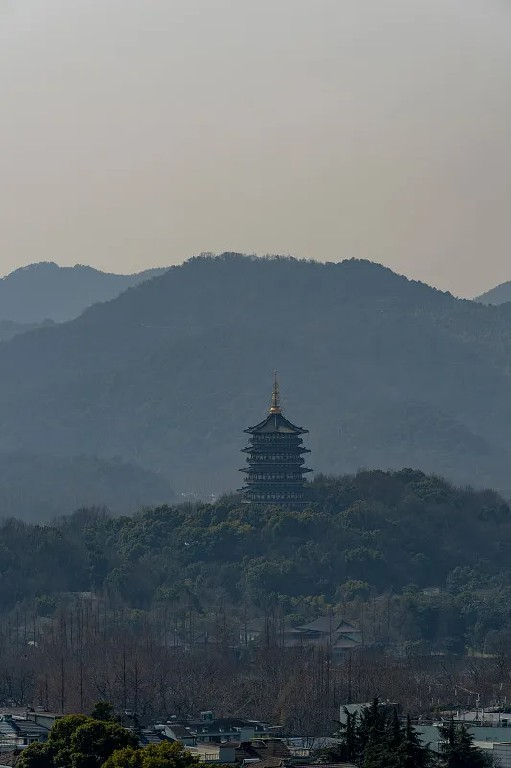Leifeng: (237, 372, 311, 506)
